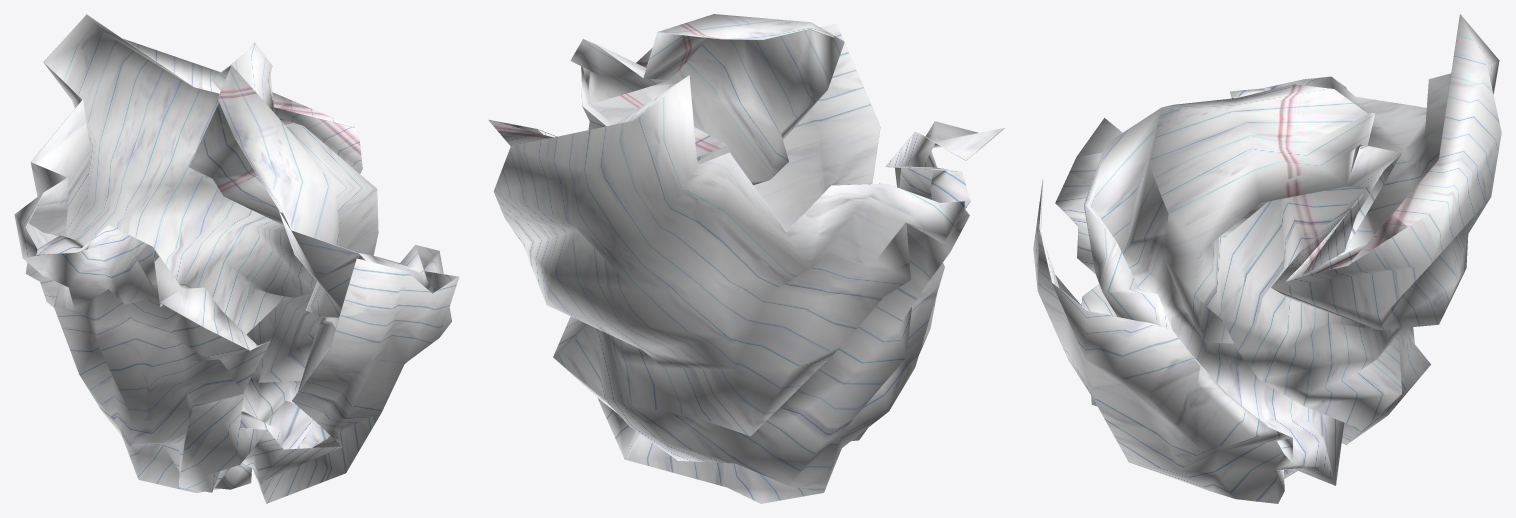
Rendered from CrumpledPaper.fbx.
3 renders of one model, left to right at view 1: azimuth 30°, elevation 25°; view 2: azimuth 150°, elevation 25°; view 3: azimuth 270°, elevation 25°, orthographic. The views are drawn at different scales.
Parts seen in each view (by area): view 1: Paper; view 2: Paper; view 3: Paper.
Part boxes in pixels (x1=…): Paper: x1=14, y1=14, x2=459, y2=503; Paper: x1=488, y1=14, x2=1004, y2=503; Paper: x1=1033, y1=14, x2=1501, y2=503.
Bounding box in the file's own units: 15.25 × 17.19 × 16.19.
Materials: 1 (1 with a texture image).
